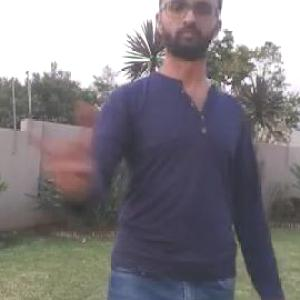takeoff-hand: (30, 119, 101, 197)
